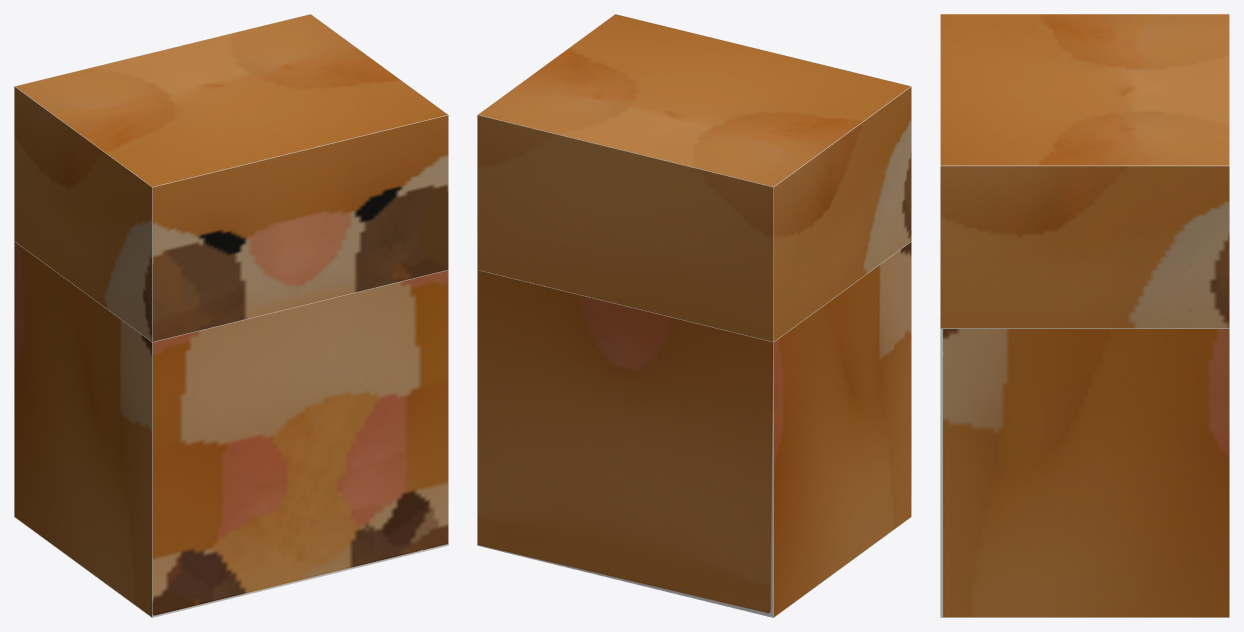
The model's file is hamster.glb.
3 views of the same model, side by side, from view 1: azimuth 30°, elevation 25°; view 2: azimuth 150°, elevation 25°; view 3: azimuth 270°, elevation 25° (orthographic). The views are drawn at different scales.
Visible parts, largest first — view 1: Hamster — reconstructed printed paper box; view 2: Hamster — reconstructed printed paper box; view 3: Hamster — reconstructed printed paper box.
Part boxes in pixels (x1=…): Hamster — reconstructed printed paper box: x1=14, y1=14, x2=448, y2=617; Hamster — reconstructed printed paper box: x1=477, y1=14, x2=911, y2=617; Hamster — reconstructed printed paper box: x1=940, y1=14, x2=1229, y2=617.
Size of the model in its own units: 0.7203 by 1 by 0.5804.
Materials: 10 (9 with a texture image).
